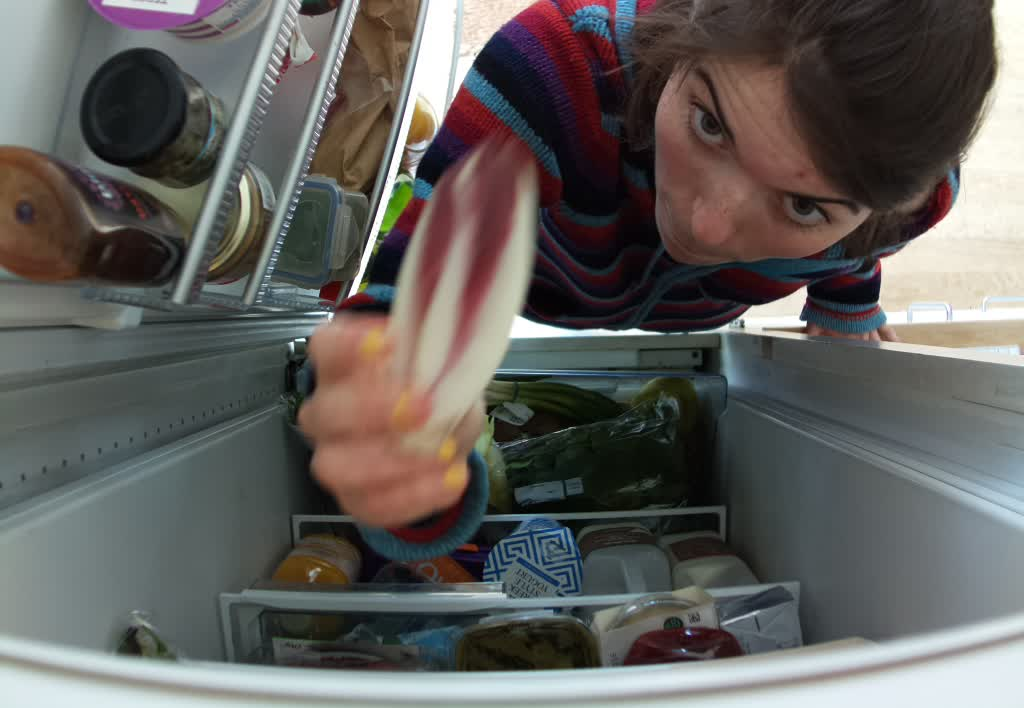salad: (391, 131, 545, 445)
